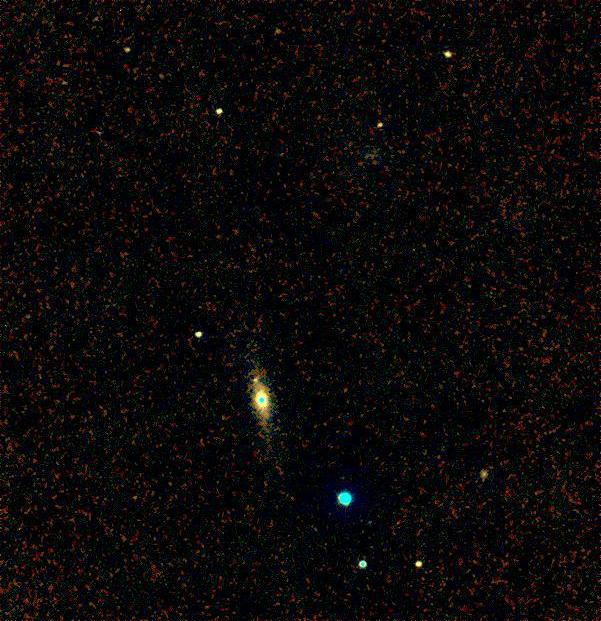star: (243, 365, 273, 395)
